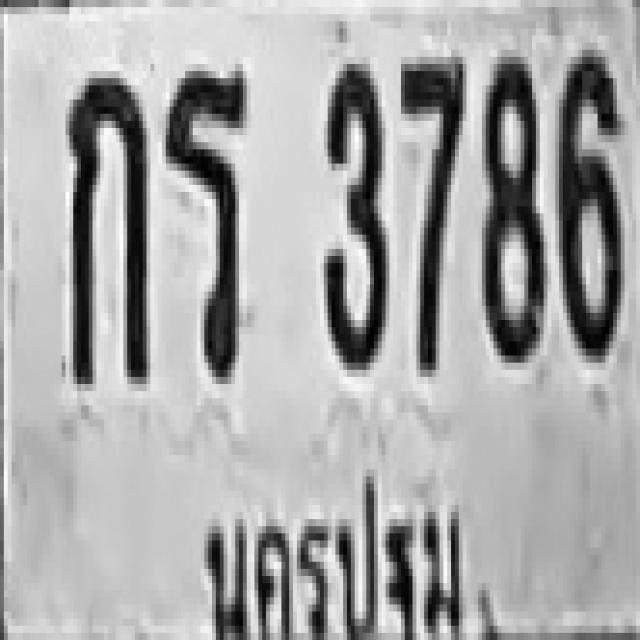10GorGai: (66, 71, 146, 384)
3: (320, 57, 386, 363)
44RorRuea: (160, 64, 245, 377)
6: (555, 42, 617, 356)
7: (397, 50, 463, 370)
8: (478, 49, 540, 356)
NakhonPathom: (196, 473, 469, 640)
